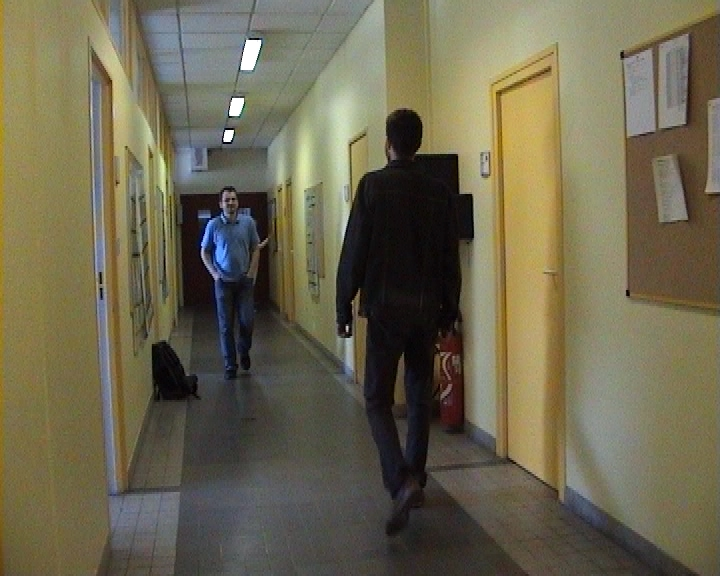leave bag unattended: (138, 167, 322, 465)
